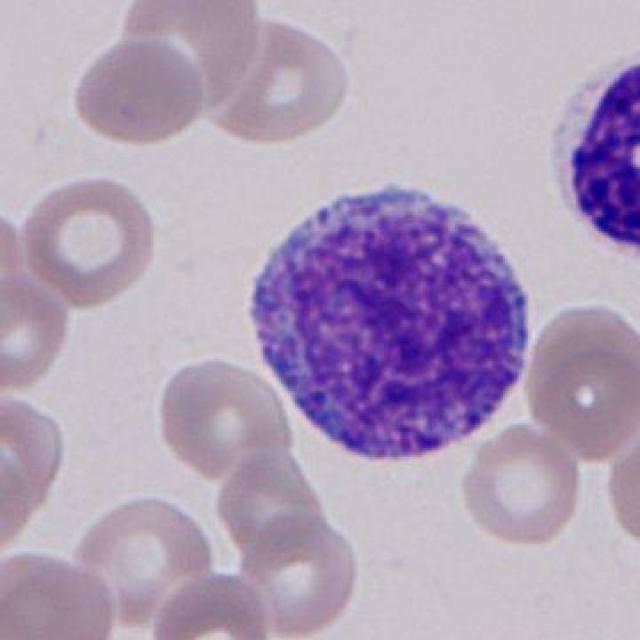RBC: (68, 489, 218, 633), (519, 295, 640, 464), (205, 16, 358, 148), (16, 170, 162, 308), (98, 0, 261, 119), (151, 354, 295, 482), (231, 512, 363, 640), (455, 423, 587, 549), (66, 34, 210, 148), (210, 452, 330, 562), (2, 549, 121, 640), (2, 384, 71, 526), (148, 567, 272, 640), (1, 276, 74, 391), (602, 421, 640, 556), (0, 439, 36, 564), (0, 199, 27, 334)
